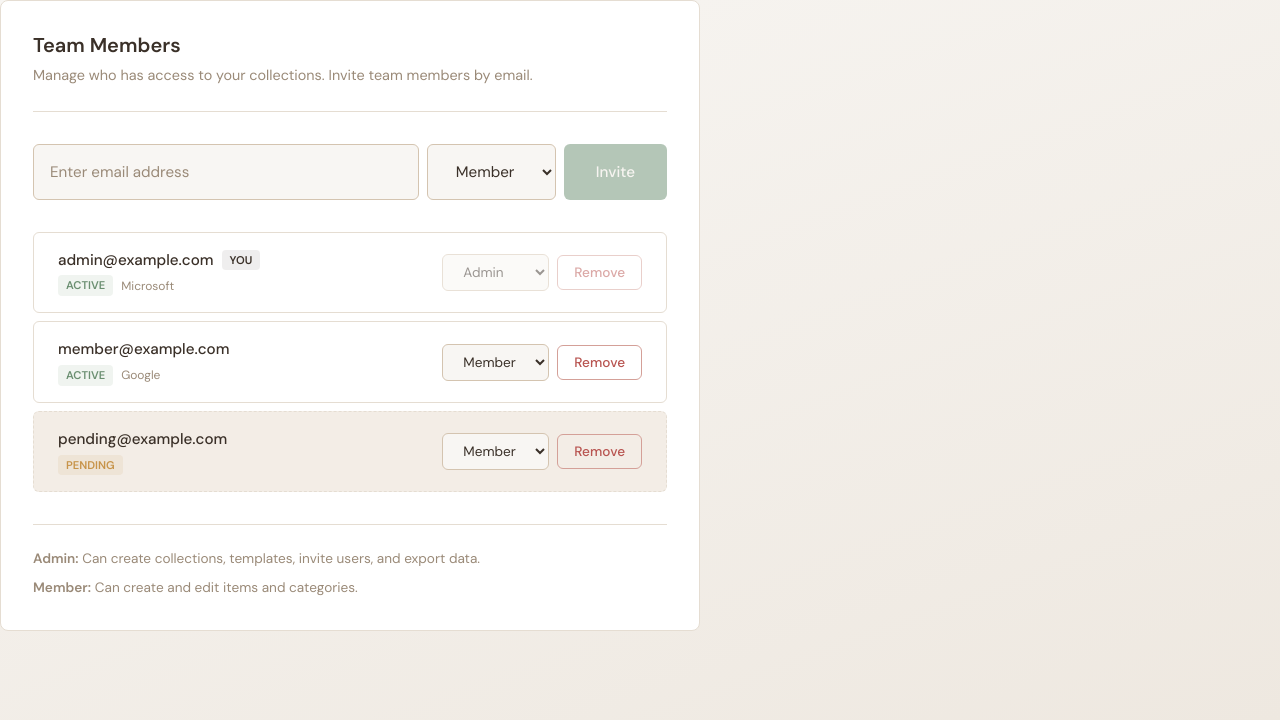
Test: UserManagement › change user role › should show error when role update fails
Expected: the text "member@example.com" is shown, [58,339,230,359]
Step 1. Select "Admin" in the dropdown in the row of "member@example.com" → (496, 362), box [442,344,549,380]
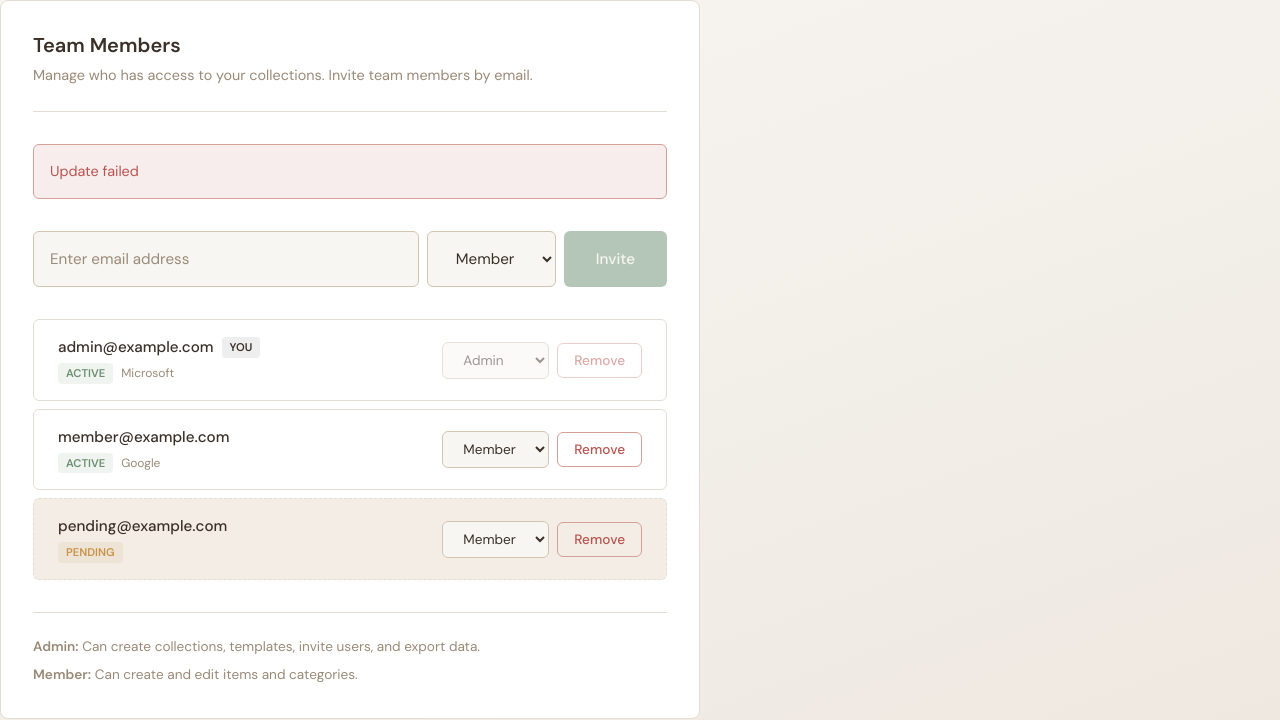
Expected: the text "Update failed" is shown, [33,144,667,199]
